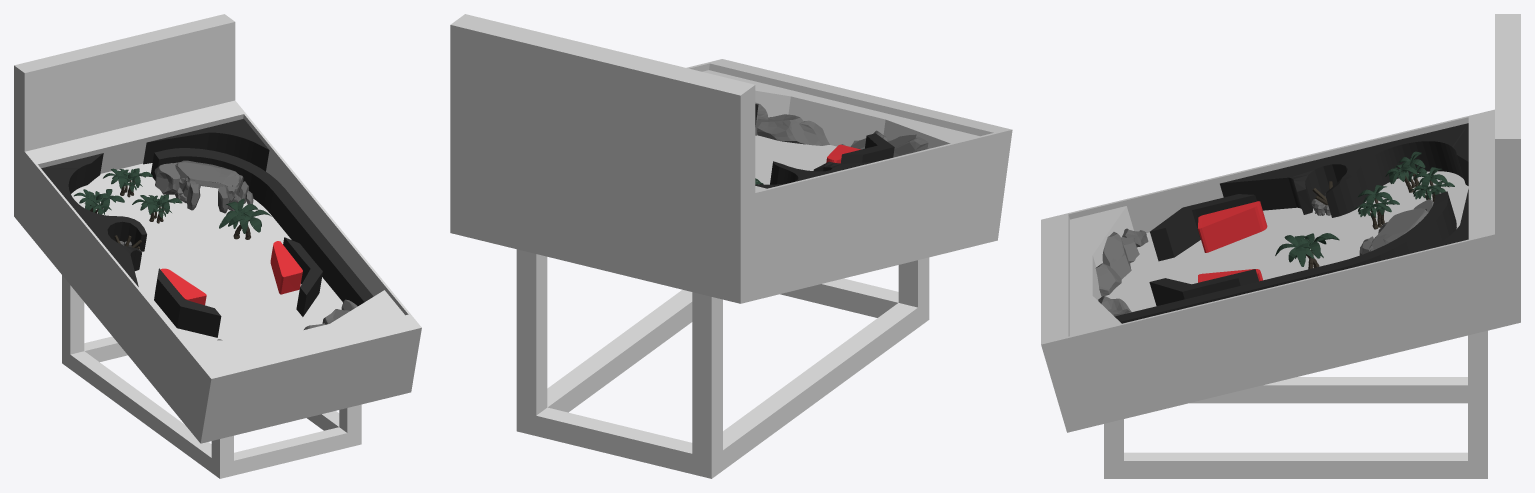
File: pin_V2.fbx
3 renders of one model, left to right at view 1: azimuth 30°, elevation 25°; view 2: azimuth 150°, elevation 25°; view 3: azimuth 270°, elevation 25°, orthographic. The views are drawn at different scales.
Visible parts, largest first — view 1: Machine_V2, Walls, Base.002, Cave, Trees_01, Bumper_right, Bumper_left; view 2: Machine_V2, Base.002, Rocks_bottom, Walls; view 3: Machine_V2, Base.002, Walls, Trees_01, Rocks_bottom, Bumper_left, Cave.
Part boxes in pixels (bbox=[...]): Machine_V2: bbox=[14, 14, 421, 443]; Walls: bbox=[41, 119, 373, 337]; Base.002: bbox=[62, 275, 361, 478]; Cave: bbox=[154, 160, 253, 213]; Trees_01: bbox=[74, 168, 271, 239]; Bumper_right: bbox=[270, 241, 302, 294]; Bumper_left: bbox=[160, 268, 206, 305]; Machine_V2: bbox=[450, 14, 1012, 303]; Base.002: bbox=[516, 249, 929, 478]; Rocks_bottom: bbox=[755, 102, 928, 157]; Walls: bbox=[755, 104, 894, 188]; Machine_V2: bbox=[1041, 14, 1520, 432]; Base.002: bbox=[1104, 330, 1487, 478]; Walls: bbox=[1114, 123, 1468, 323]; Trees_01: bbox=[1275, 151, 1454, 269]; Rocks_bottom: bbox=[1095, 228, 1148, 316]; Bumper_left: bbox=[1198, 201, 1267, 252]; Cave: bbox=[1359, 199, 1433, 255].
Size of the model in its own units: 1305 by 1757 by 2119.
